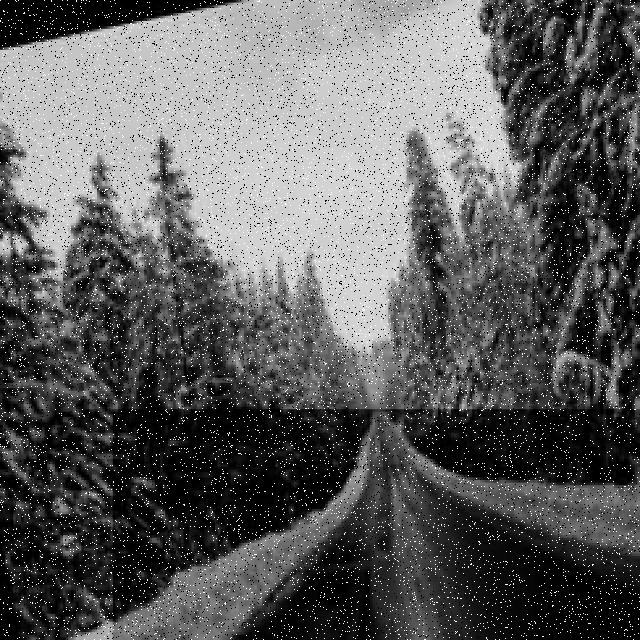ice-road: (232, 411, 640, 640)
